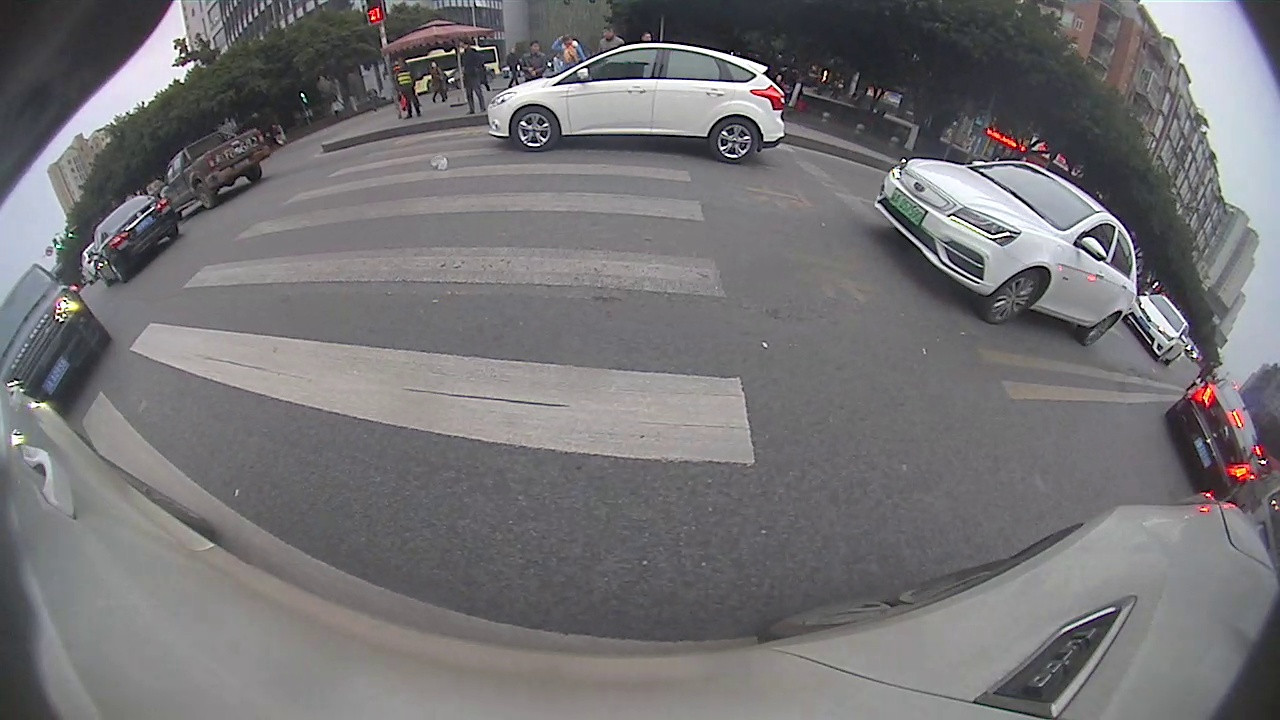car: (873, 156, 1139, 351), (485, 41, 788, 168), (3, 259, 113, 410), (1166, 375, 1262, 501), (162, 129, 272, 218), (93, 193, 178, 288), (1124, 290, 1192, 364)
front: (981, 268, 1044, 327), (509, 103, 559, 154)
rear: (709, 116, 762, 166), (1082, 311, 1120, 347), (194, 182, 217, 209)
